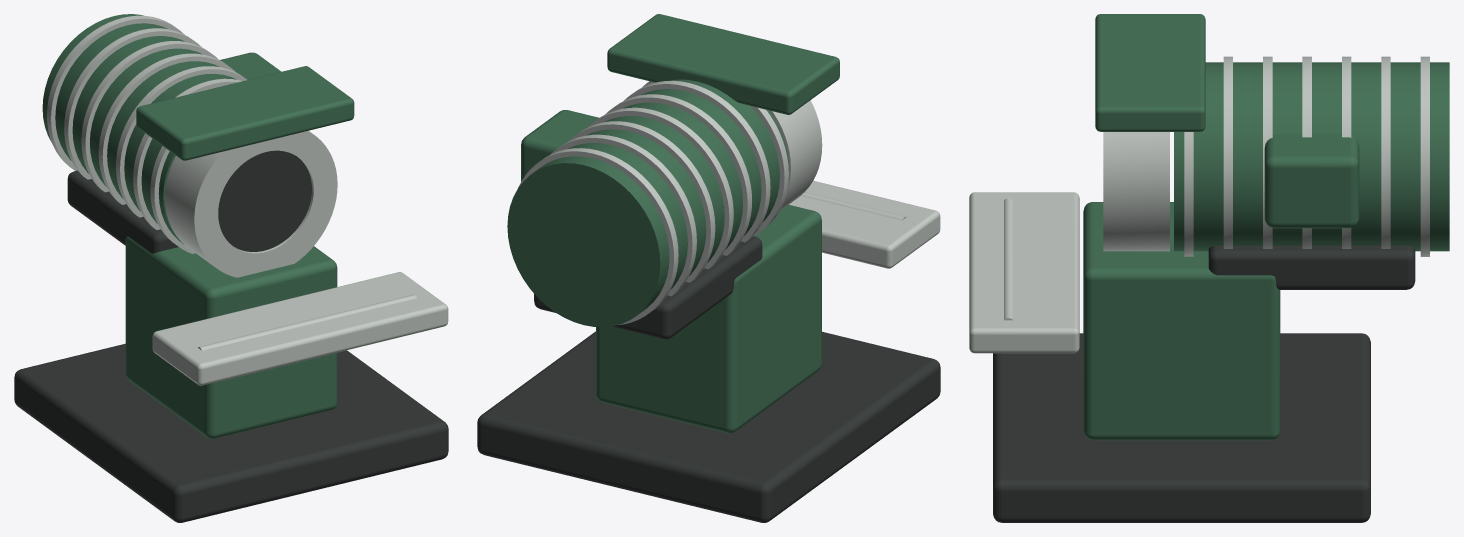
File: sawmill-and-timber-yard-blade-sharpening-machine-161d464d__31170.glb
3 renders of one model, left to right at view 1: azimuth 30°, elevation 25°; view 2: azimuth 150°, elevation 25°; view 3: azimuth 270°, elevation 25°, orthographic. The views are drawn at different scales.
Parts seen in each view (by area): view 1: blade-sharpening-machine; view 2: blade-sharpening-machine; view 3: blade-sharpening-machine.
Part boxes in pixels (x1,y1,x2,y2): blade-sharpening-machine: (14, 14, 448, 522); blade-sharpening-machine: (477, 14, 940, 522); blade-sharpening-machine: (969, 14, 1449, 522).
Size of the model in its own units: 0.46 by 0.545 by 0.61.
